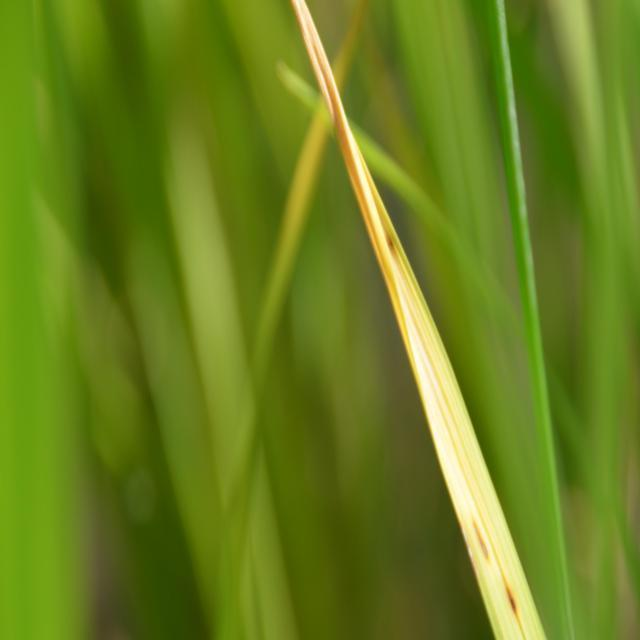Rice Tungro: (300, 97, 553, 623)
